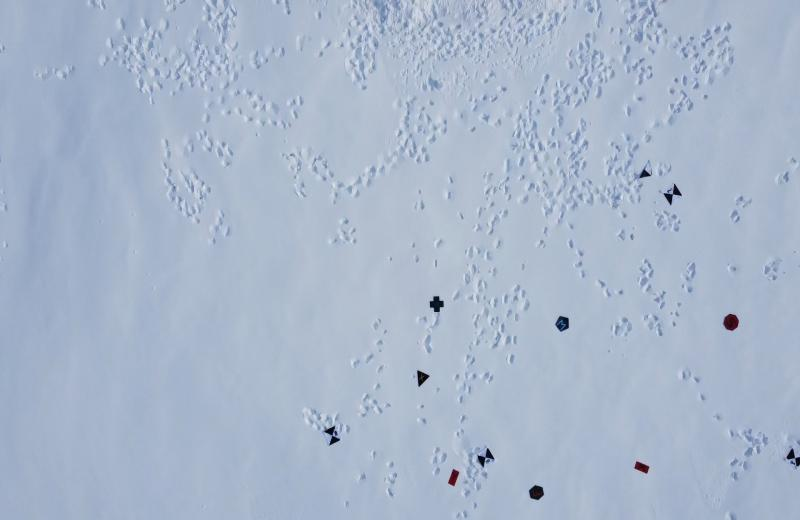Cross: (428, 296, 446, 315)
Hexagon: (527, 484, 545, 502)
Octagon: (722, 312, 740, 333)
Pentagon: (555, 316, 571, 334)
Rectangle: (444, 468, 462, 489), (633, 459, 651, 479)
Triangle: (414, 368, 430, 388)
